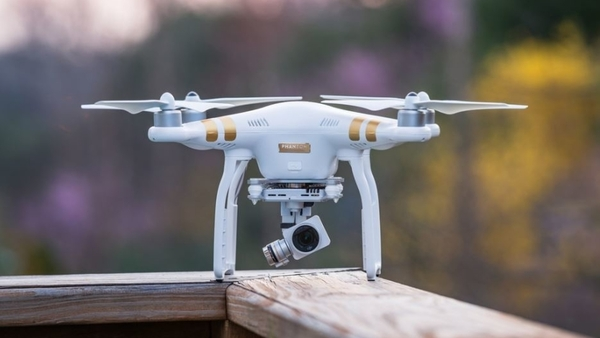drone: (77, 87, 530, 284)
